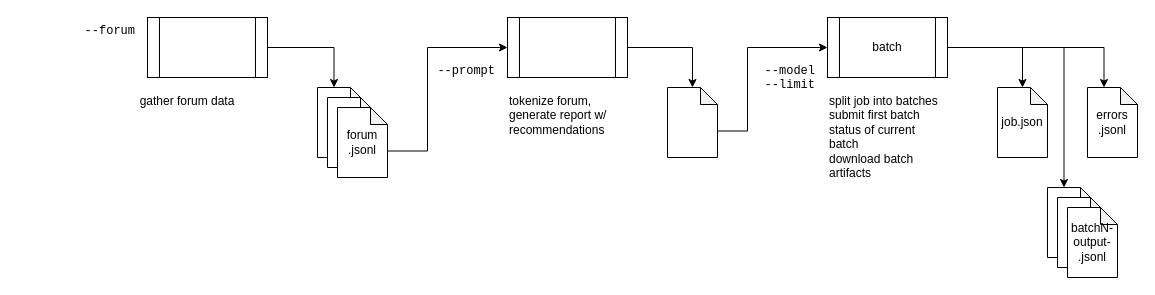
The diagram is 1155 pixels wide and 295 high, and some of its shapes have lost their labels. Each missing label, with the centre of its shape:
"report .json" goes at [692,122].
"scraper" goes at [207,47].
"tokenizer" goes at [567,47].
